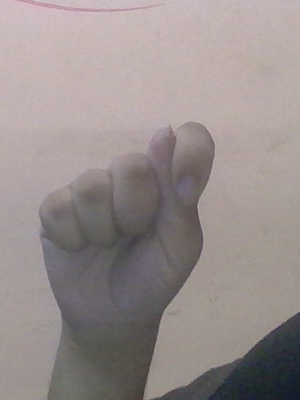T: (32, 119, 229, 339)
